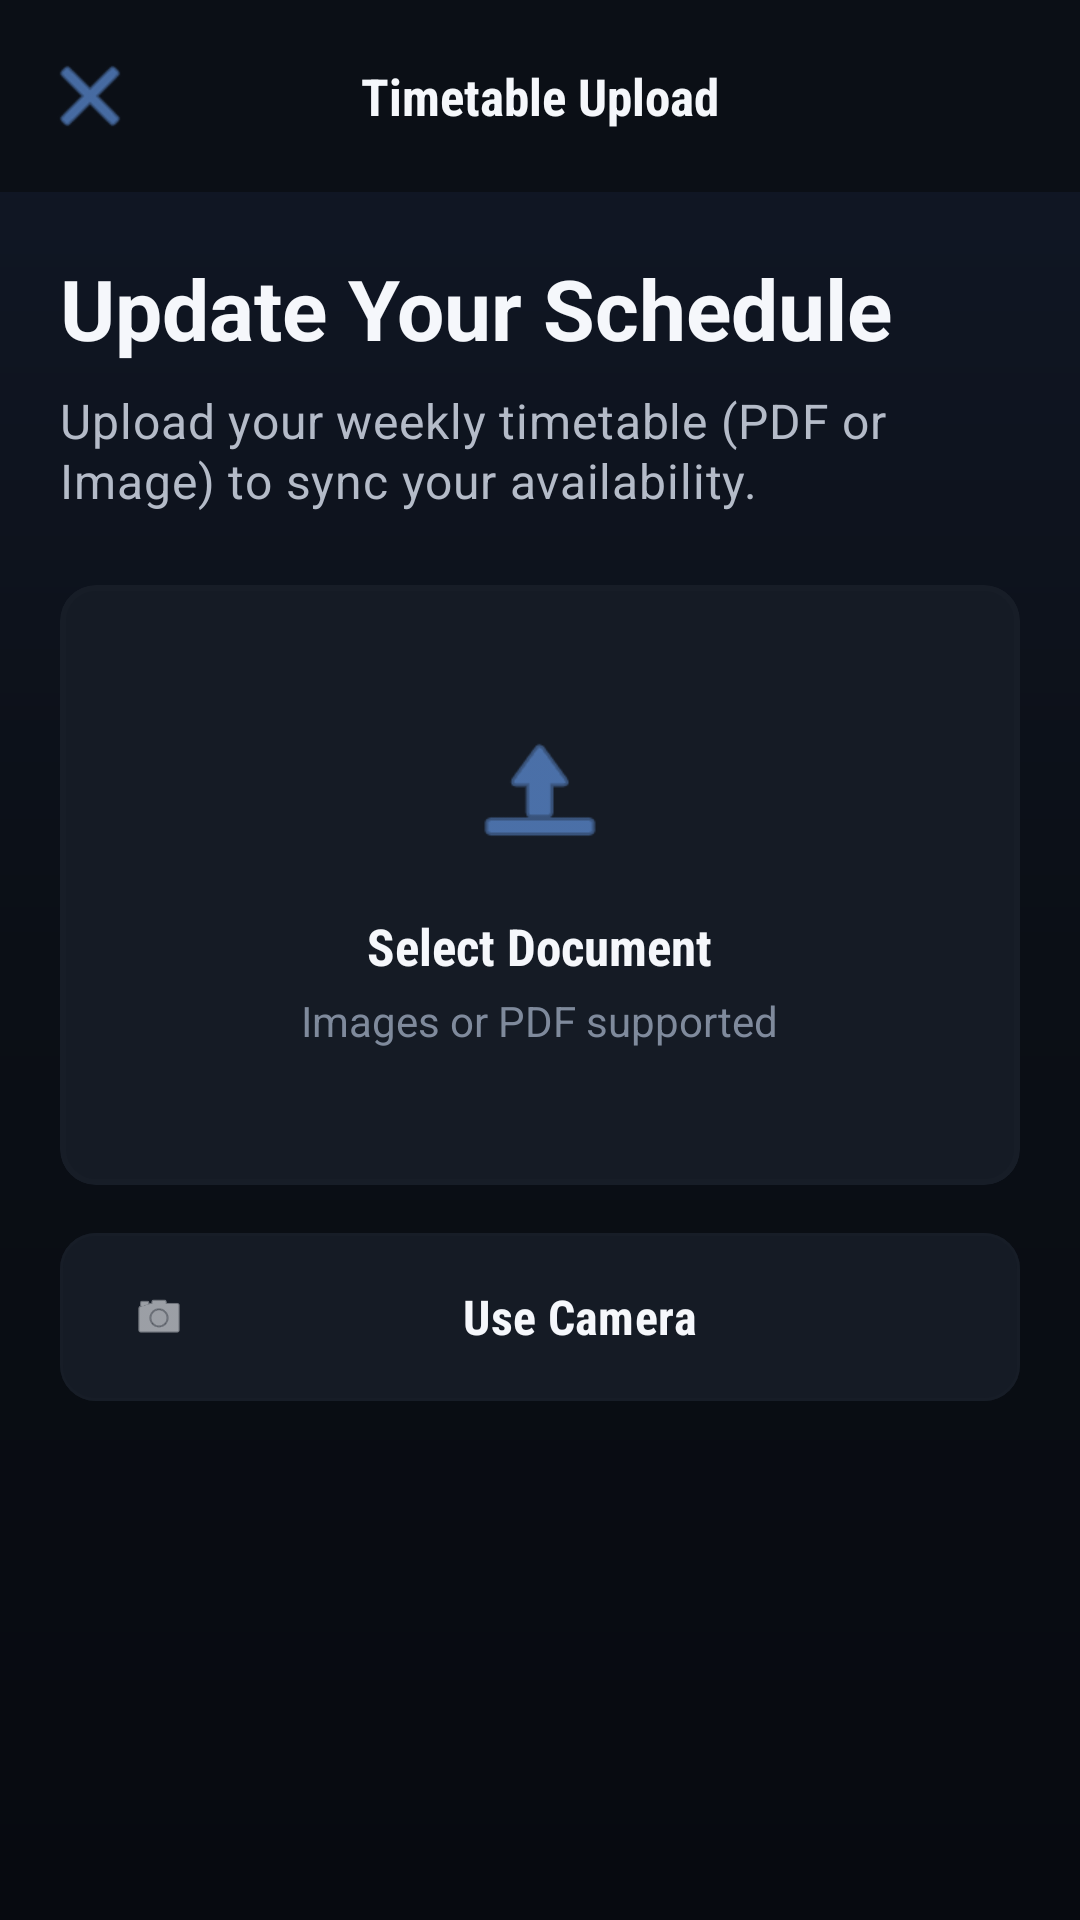

Where icons sit on this 1080px×1920px app screen, as (x1, y1, x2, y2):
close clear cancel: (60, 66, 120, 126)
upload: (484, 744, 596, 836)
